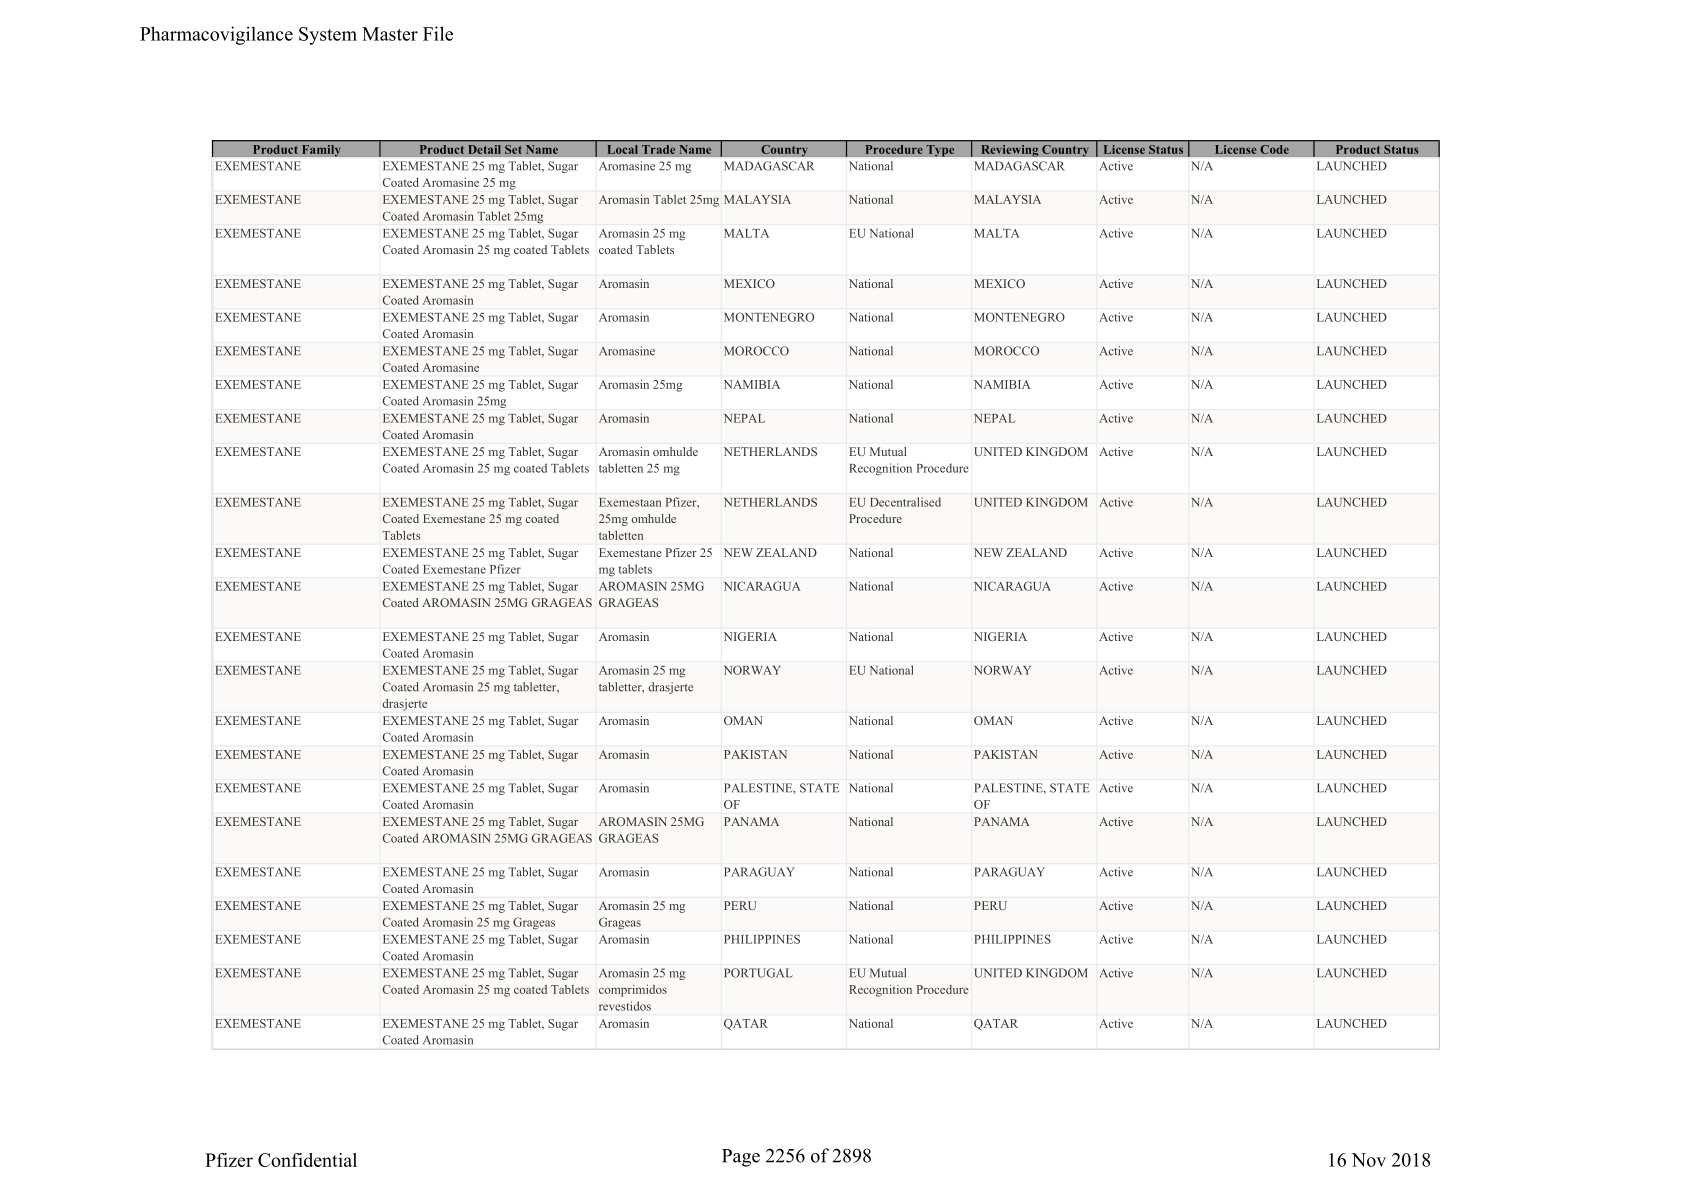full_lined: (211, 138, 1441, 1052)
